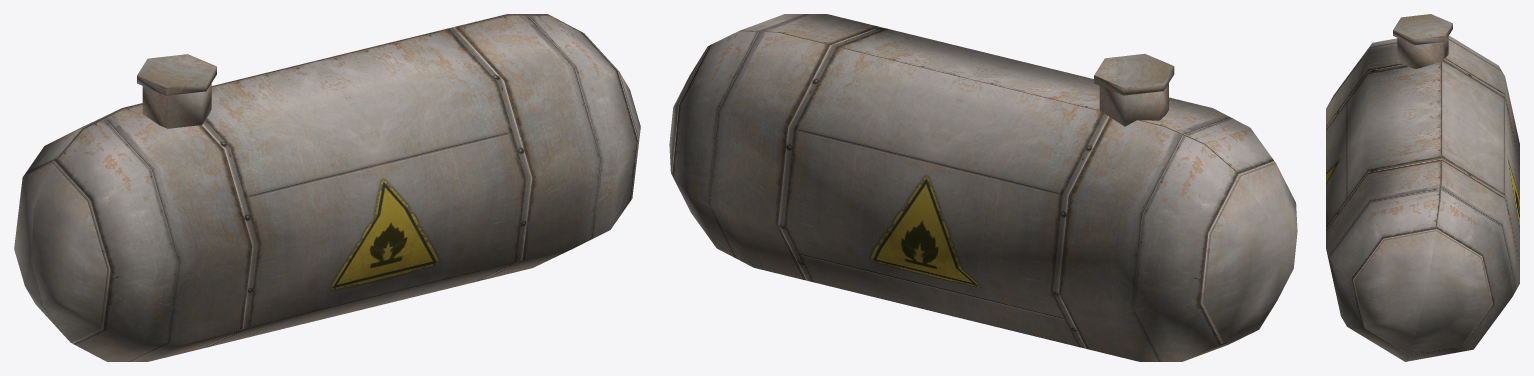
Rendered from Prop_Yg03_lod1.glb.
3 renders of one model, left to right at view 1: azimuth 30°, elevation 25°; view 2: azimuth 150°, elevation 25°; view 3: azimuth 270°, elevation 25°, orthographic. The views are drawn at different scales.
Visible parts, largest first — view 1: xiutz_yg_03_lod1; view 2: xiutz_yg_03_lod1; view 3: xiutz_yg_03_lod1.
Part boxes in pixels (box(x1,y1,x2,y2)): xiutz_yg_03_lod1: box(14, 14, 640, 361); xiutz_yg_03_lod1: box(669, 14, 1297, 361); xiutz_yg_03_lod1: box(1326, 14, 1519, 361).
Bounding box in the file's own units: 10.22 × 4.47 × 3.87.
Materials: 1 (1 with a texture image).
